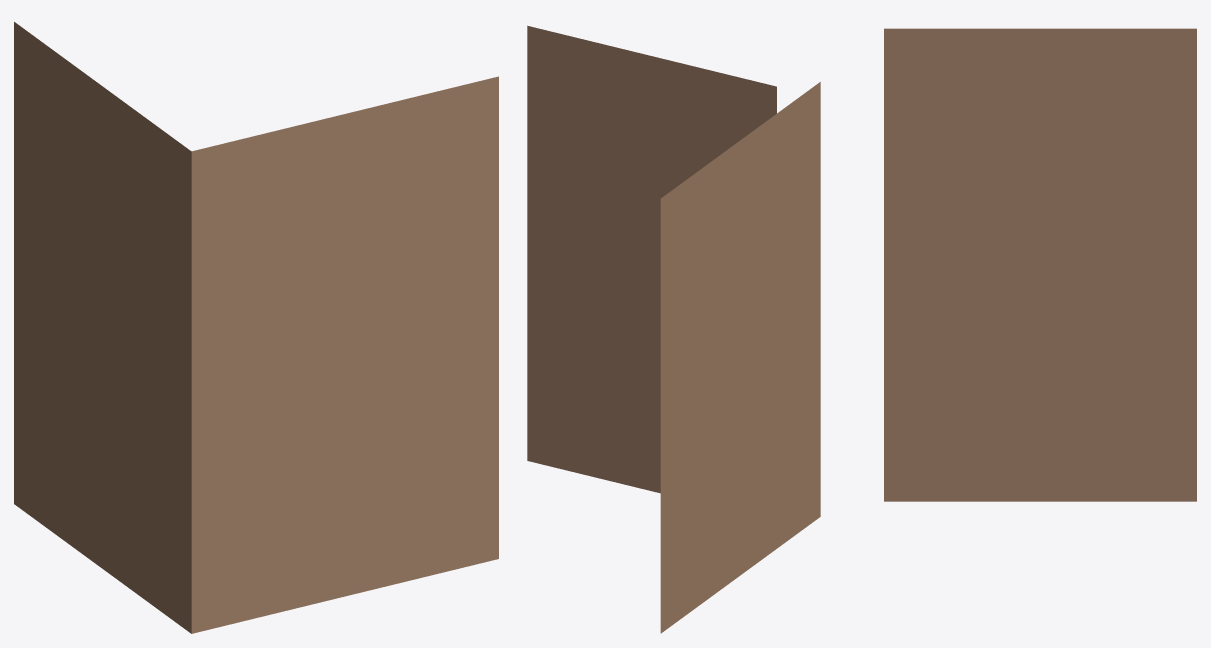
The model's file is env_block_brick_top_trim_corner.glb.
3 renders of one model, left to right at view 1: azimuth 30°, elevation 25°; view 2: azimuth 150°, elevation 25°; view 3: azimuth 270°, elevation 25°, orthographic. The views are drawn at different scales.
Parts seen in each view (by area): view 1: Brick_TopTrim_Corner.gltf; view 2: Brick_TopTrim_Corner.gltf; view 3: Brick_TopTrim_Corner.gltf.
Part boxes in pixels (x1=…): Brick_TopTrim_Corner.gltf: x1=14, y1=22, x2=498, y2=633; Brick_TopTrim_Corner.gltf: x1=527, y1=25, x2=820, y2=633; Brick_TopTrim_Corner.gltf: x1=884, y1=28, x2=1196, y2=501.
Size of the model in its own units: 2 by 3 by 2.
